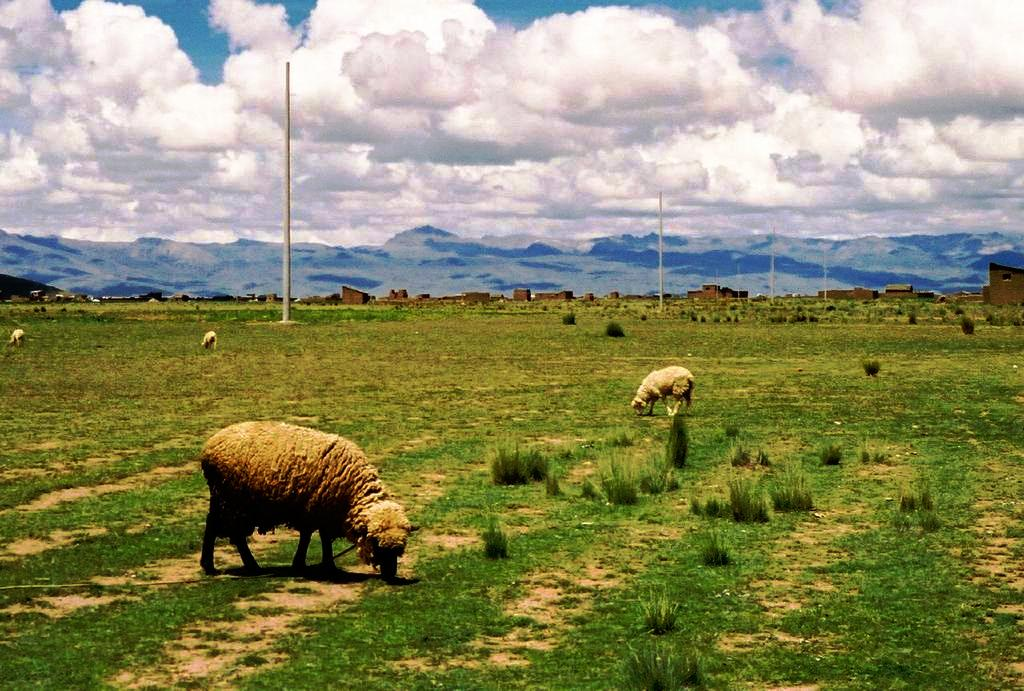Sheep: (198, 419, 422, 583), (630, 364, 692, 423), (8, 326, 26, 346), (204, 330, 214, 348)
